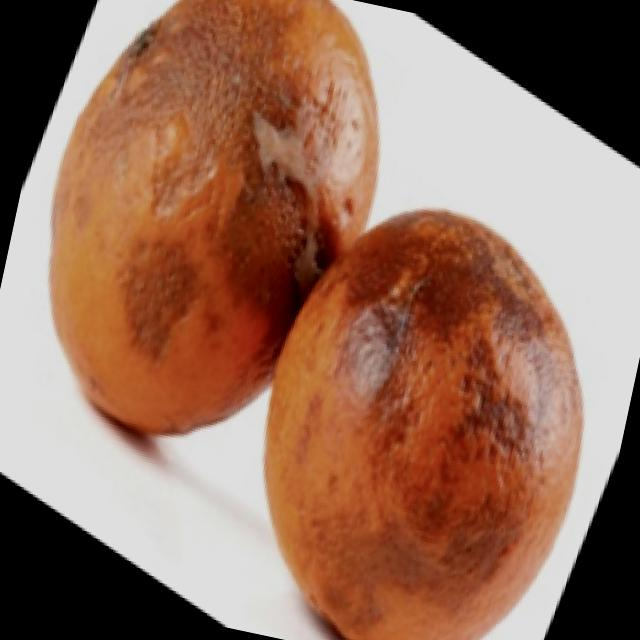Rotten_Orange: (202, 104, 640, 640), (7, 0, 420, 503)
